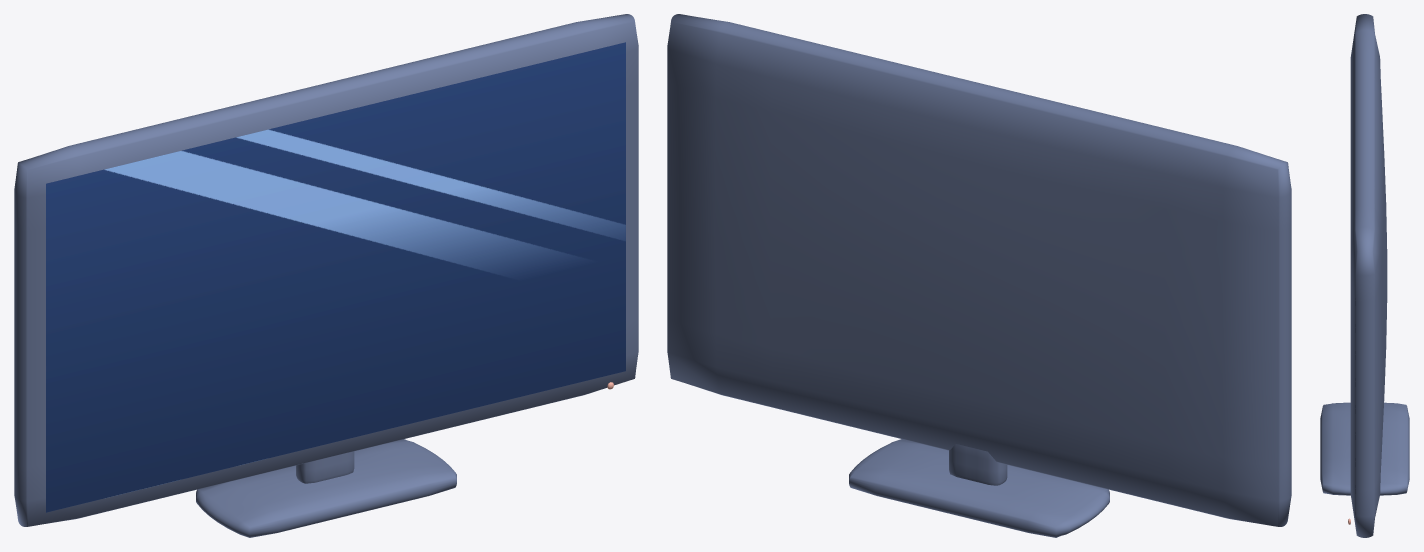
The model's file is 卡通电视.glb.
3 views of the same model, side by side, from view 1: azimuth 30°, elevation 25°; view 2: azimuth 150°, elevation 25°; view 3: azimuth 270°, elevation 25° (orthographic). The views are drawn at different scales.
Visible parts, largest first — view 1: TVCartoon_Screen, TVCartoon_Body; view 2: TVCartoon_Body; view 3: TVCartoon_Body.
Part boxes in pixels (x1=…): TVCartoon_Screen: x1=46, y1=42, x2=625, y2=512; TVCartoon_Body: x1=14, y1=14, x2=638, y2=537; TVCartoon_Body: x1=667, y1=14, x2=1291, y2=537; TVCartoon_Body: x1=1320, y1=14, x2=1409, y2=537.
Size of what is drawn, in the model's own units: 1.4 by 0.8899 by 0.2198.
Materials: 3 (1 with a texture image).
